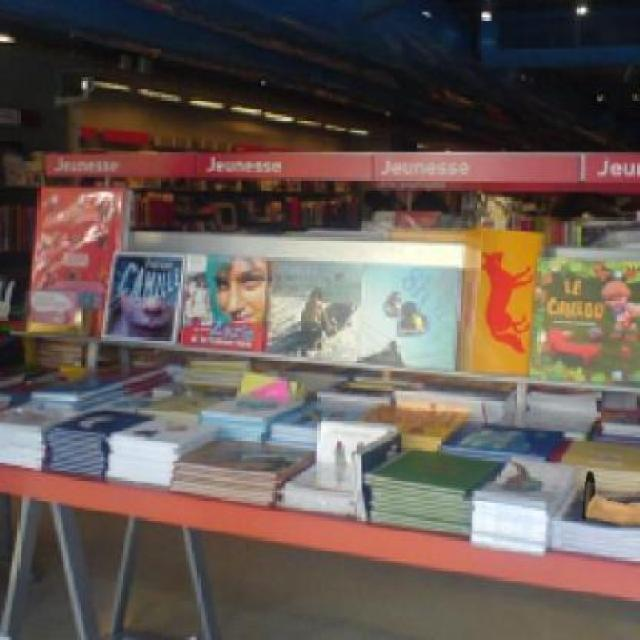Person: (581, 464, 639, 531)
